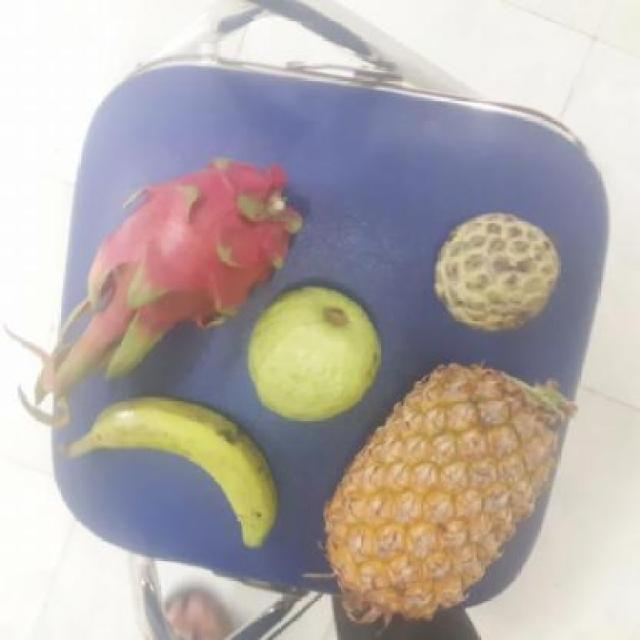dragon fruit: (92, 156, 300, 336)
guava: (241, 285, 381, 417)
pineapple: (321, 368, 561, 618)
sugar apple: (430, 214, 558, 331)
